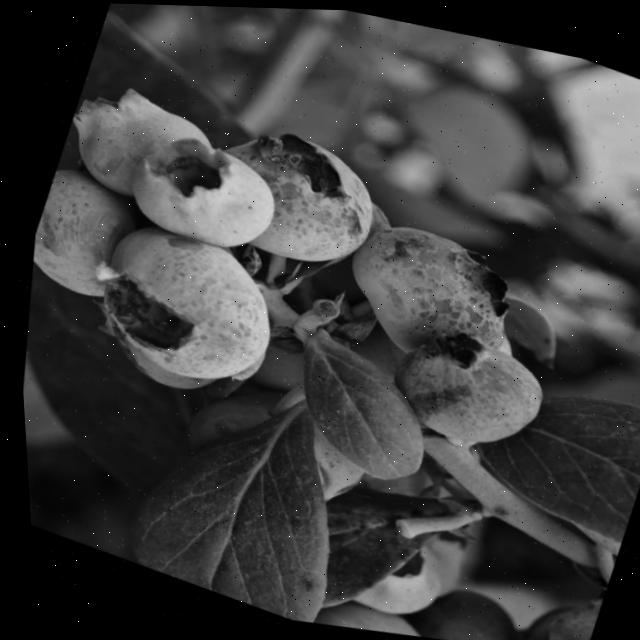Semi-RipeBlueBerry: (313, 194, 540, 394), (354, 302, 562, 485)
UnripeBlueBerry: (53, 194, 304, 421), (100, 107, 300, 279)
